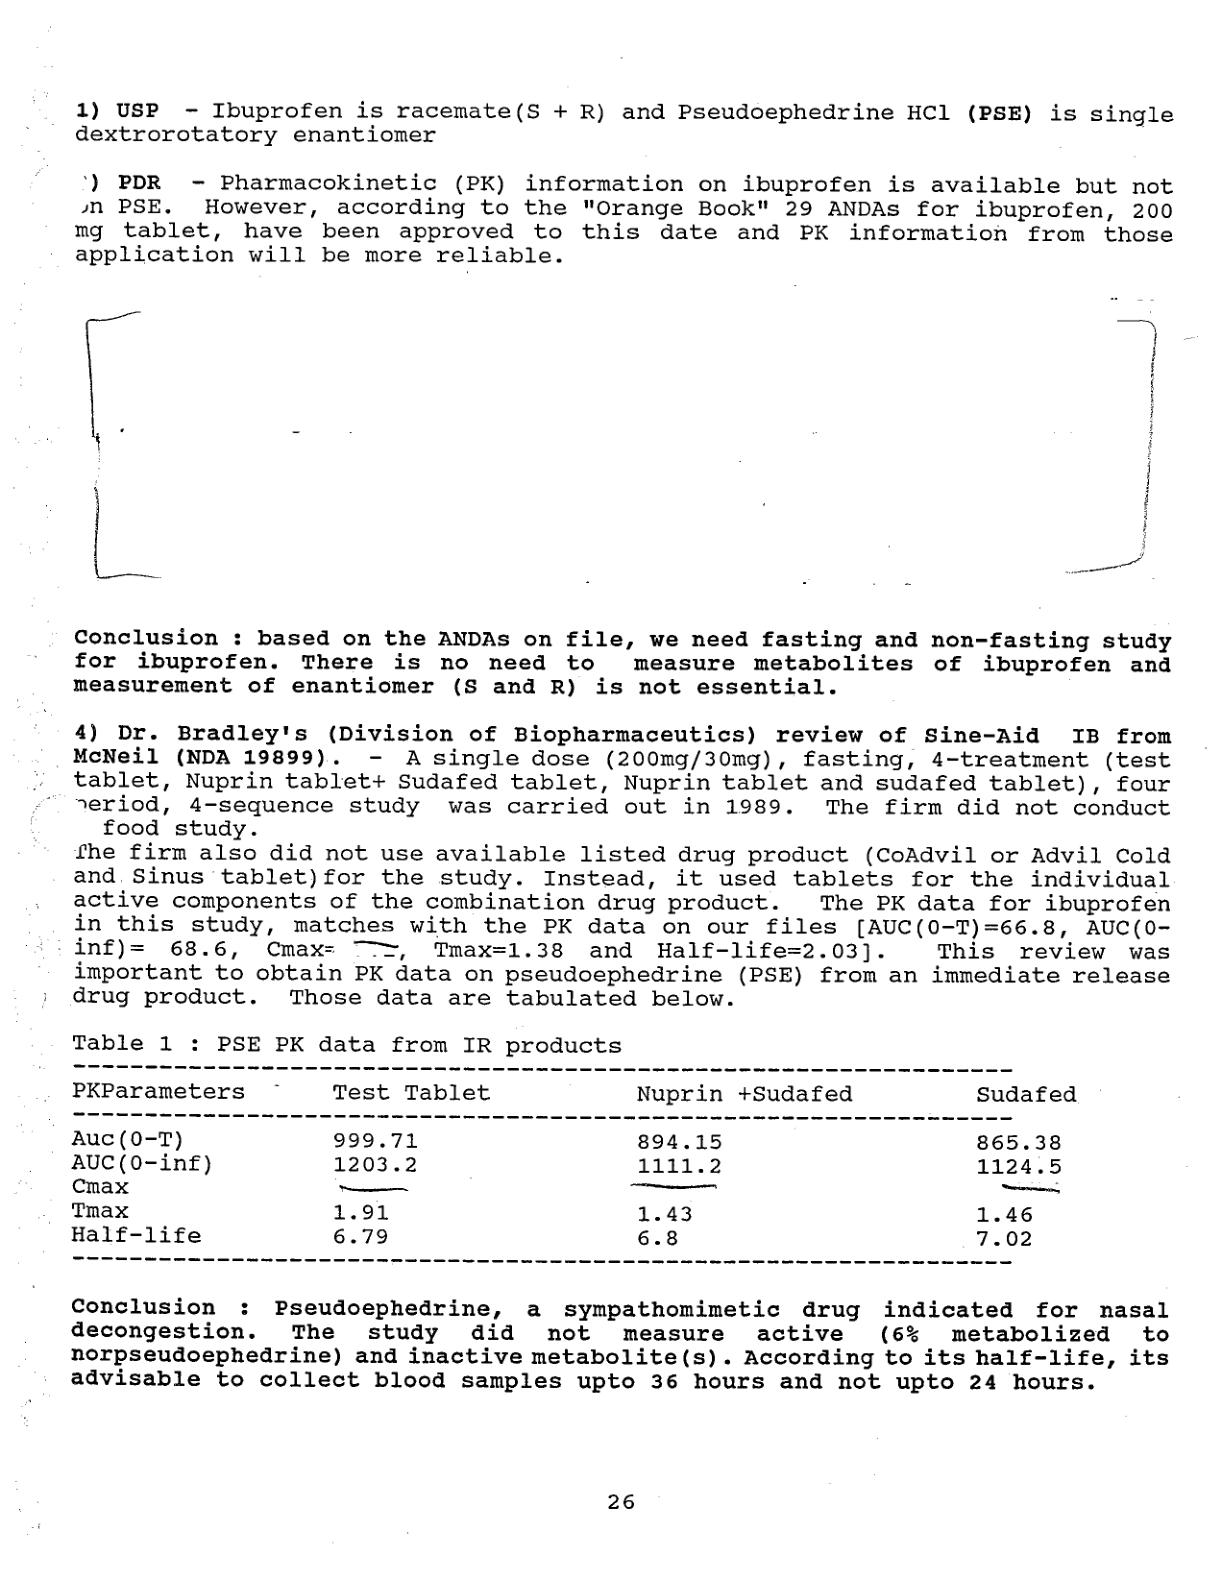partial_lined: (71, 1061, 1084, 1266)
